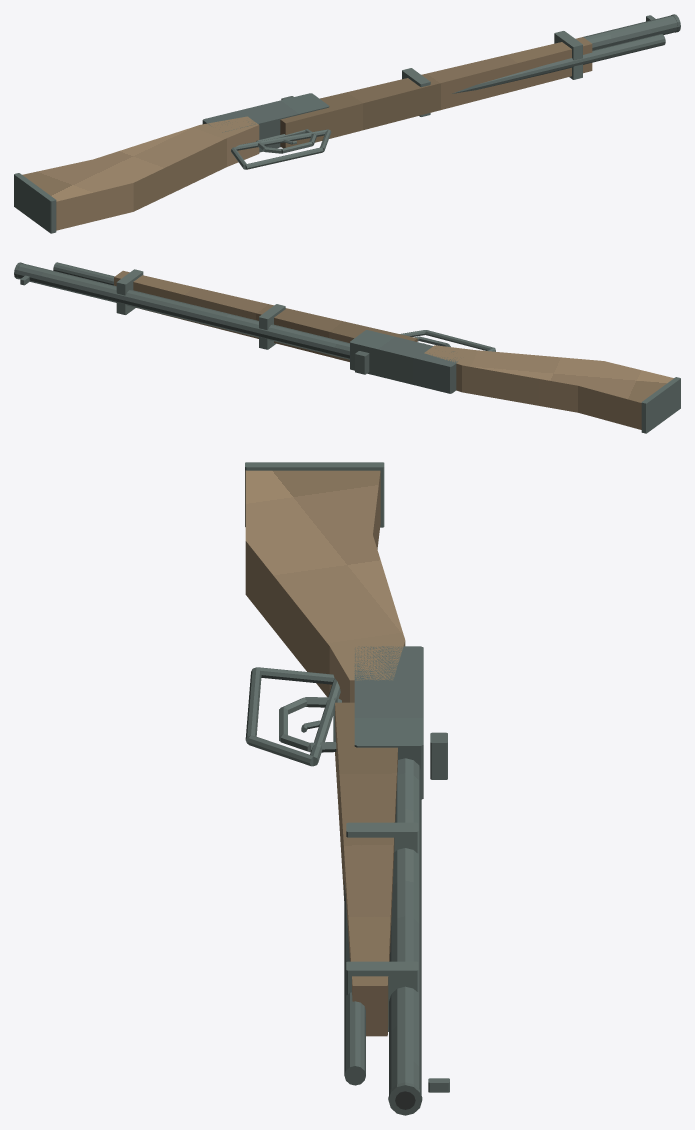
File: weapon-winchester.glb
The picture shows the model from 3 angles, top to bottom: view 1: azimuth 30°, elevation 25°; view 2: azimuth 150°, elevation 25°; view 3: azimuth 270°, elevation 25°; orthographic projection. The views are drawn at different scales.
Visible parts, largest first — view 1: weapon-winchester/shaped-solid-butt, weapon-winchester/tapered-full-depth-forend, weapon-winchester/central-receiver, weapon-winchester/under-barrel-long-tube, weapon-winchester/butt-end-plate, weapon-winchester/long-barrel, weapon-winchester/stock-band-1, weapon-winchester/open-lever-loop-4, weapon-winchester/open-lever-loop-2; view 2: weapon-winchester/shaped-solid-butt, weapon-winchester/long-barrel, weapon-winchester/tapered-full-depth-forend, weapon-winchester/central-receiver, weapon-winchester/butt-end-plate, weapon-winchester/under-barrel-long-tube, weapon-winchester/stock-band-1, weapon-winchester/stock-band-0, weapon-winchester/open-lever-loop-2, weapon-winchester/rear-sight; view 3: weapon-winchester/shaped-solid-butt, weapon-winchester/tapered-full-depth-forend, weapon-winchester/long-barrel, weapon-winchester/central-receiver, weapon-winchester/under-barrel-long-tube, weapon-winchester/stock-band-1, weapon-winchester/butt-end-plate, weapon-winchester/stock-band-0.
Boxes of the visible parts, x1,y1,x2,y2 form: weapon-winchester/shaped-solid-butt: (22, 116, 259, 230); weapon-winchester/tapered-full-depth-forend: (280, 37, 592, 148); weapon-winchester/central-receiver: (202, 93, 329, 152); weapon-winchester/under-barrel-long-tube: (452, 34, 665, 93); weapon-winchester/butt-end-plate: (14, 173, 56, 233); weapon-winchester/long-barrel: (583, 15, 677, 50); weapon-winchester/stock-band-1: (554, 31, 582, 79); weapon-winchester/open-lever-loop-4: (235, 129, 328, 150); weapon-winchester/open-lever-loop-2: (245, 147, 323, 169); weapon-winchester/shaped-solid-butt: (424, 345, 673, 429); weapon-winchester/long-barrel: (17, 263, 349, 359); weapon-winchester/tapered-full-depth-forend: (114, 270, 417, 361); weapon-winchester/central-receiver: (350, 330, 457, 393); weapon-winchester/butt-end-plate: (641, 377, 680, 433); weapon-winchester/under-barrel-long-tube: (53, 262, 114, 285); weapon-winchester/stock-band-1: (116, 269, 143, 314); weapon-winchester/stock-band-0: (259, 304, 285, 349); weapon-winchester/open-lever-loop-2: (425, 330, 495, 350); weapon-winchester/rear-sight: (355, 351, 369, 374); weapon-winchester/shaped-solid-butt: (245, 470, 405, 702); weapon-winchester/tapered-full-depth-forend: (335, 702, 397, 1036); weapon-winchester/long-barrel: (389, 758, 421, 1094); weapon-winchester/central-receiver: (354, 646, 423, 799); weapon-winchester/under-barrel-long-tube: (344, 881, 365, 1085); weapon-winchester/stock-band-1: (346, 961, 418, 1031); weapon-winchester/butt-end-plate: (245, 462, 384, 527); weapon-winchester/stock-band-0: (346, 822, 418, 853).
Size of the model in its own units: 1.06 by 0.05 by 0.1515.
3 materials, 3 textured.
